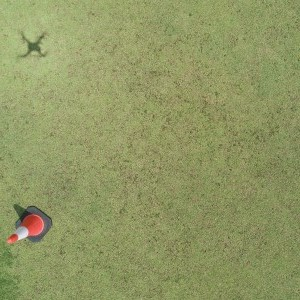traffic cone: (5, 205, 52, 243)
